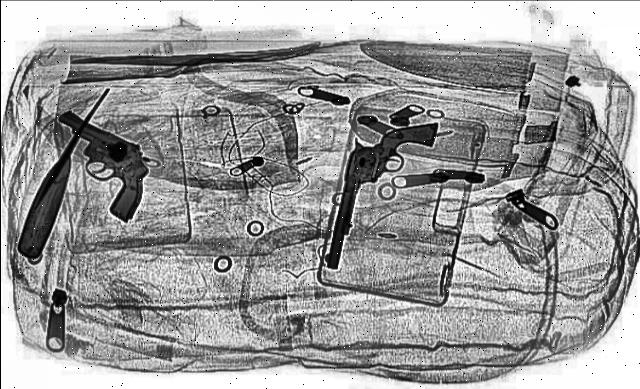Gun: (0, 118, 196, 223), (319, 120, 437, 274)
Knife: (0, 86, 124, 260)
